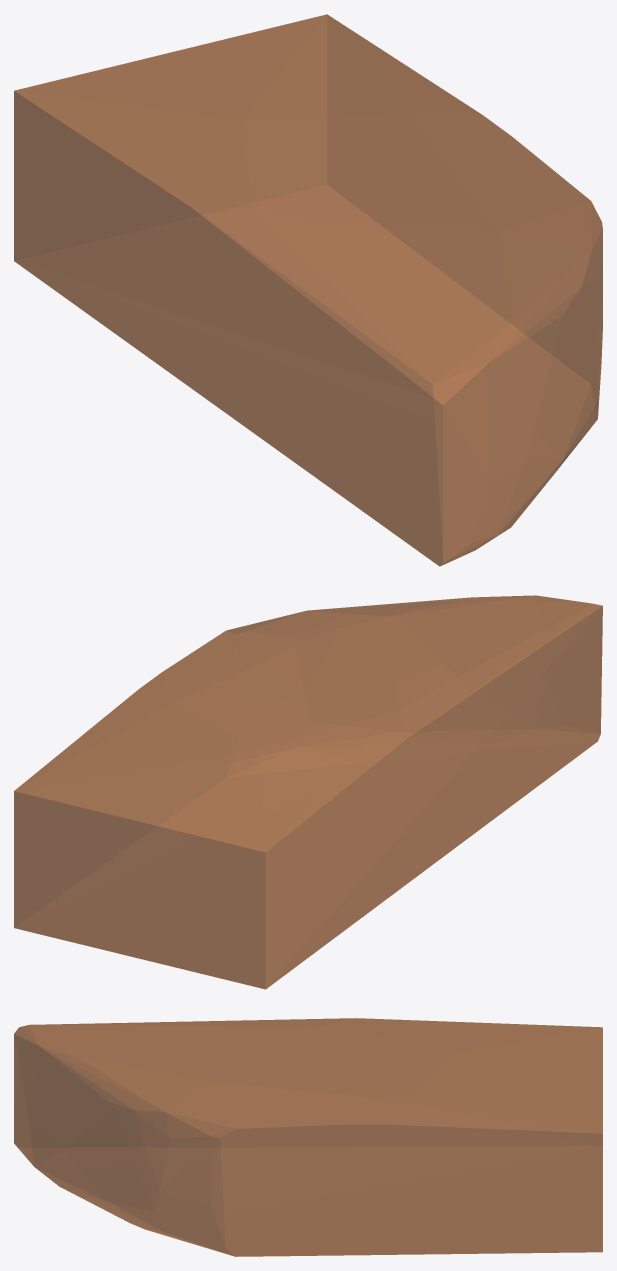
3 views of the same model, one above another, from view 1: azimuth 30°, elevation 25°; view 2: azimuth 150°, elevation 25°; view 3: azimuth 270°, elevation 25° (orthographic). The views are drawn at different scales.
Parts seen in each view (by area): view 1: Shape_IndexedFaceSet.005_Shape_IndexedFaceSet.15211; view 2: Shape_IndexedFaceSet.005_Shape_IndexedFaceSet.15211; view 3: Shape_IndexedFaceSet.005_Shape_IndexedFaceSet.15211.
Part boxes in pixels (x1,y1,x2,y2): Shape_IndexedFaceSet.005_Shape_IndexedFaceSet.15211: (14, 14, 602, 566); Shape_IndexedFaceSet.005_Shape_IndexedFaceSet.15211: (14, 595, 602, 989); Shape_IndexedFaceSet.005_Shape_IndexedFaceSet.15211: (14, 1018, 602, 1256).
Size of the model in its own units: 0.0189 by 0.0117 by 0.0443.
